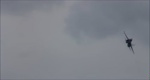maybay_muctieu: (124, 30, 138, 54)
